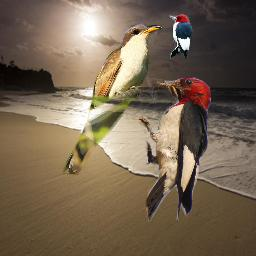Cuckoo: (61, 21, 164, 178)
Woodpecker: (135, 77, 211, 223), (169, 13, 193, 60)
